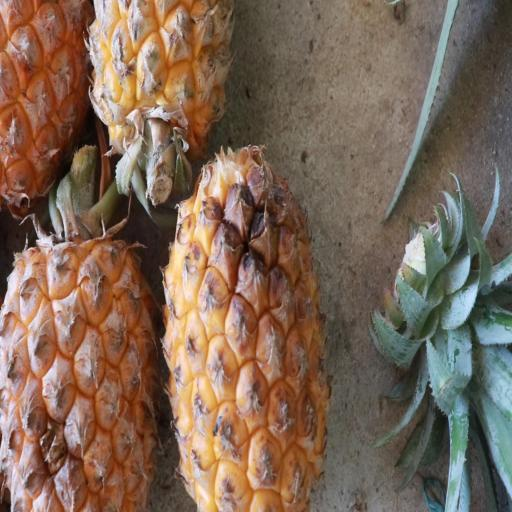Pineapple - v8 v1: (158, 141, 330, 512), (0, 146, 159, 512), (84, 0, 234, 197)
